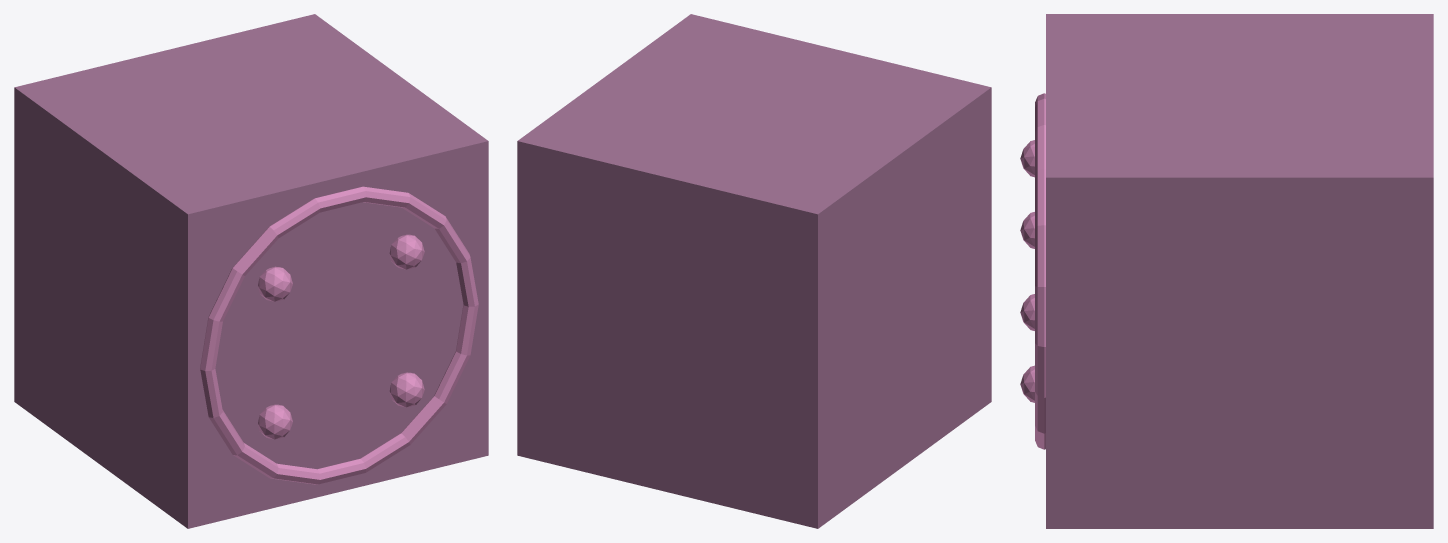
The model's file is implosion.glb.
3 renders of one model, left to right at view 1: azimuth 30°, elevation 25°; view 2: azimuth 150°, elevation 25°; view 3: azimuth 270°, elevation 25°, orthographic. The views are drawn at different scales.
Parts seen in each view (by area): view 1: world; view 2: world; view 3: world.
Part boxes in pixels (x1,y1,x2,y2): world: (14,14,488,528); world: (517,14,991,528); world: (1020,14,1433,528).
Size of the model in its own units: 1.05 by 1.05 by 1.12.
